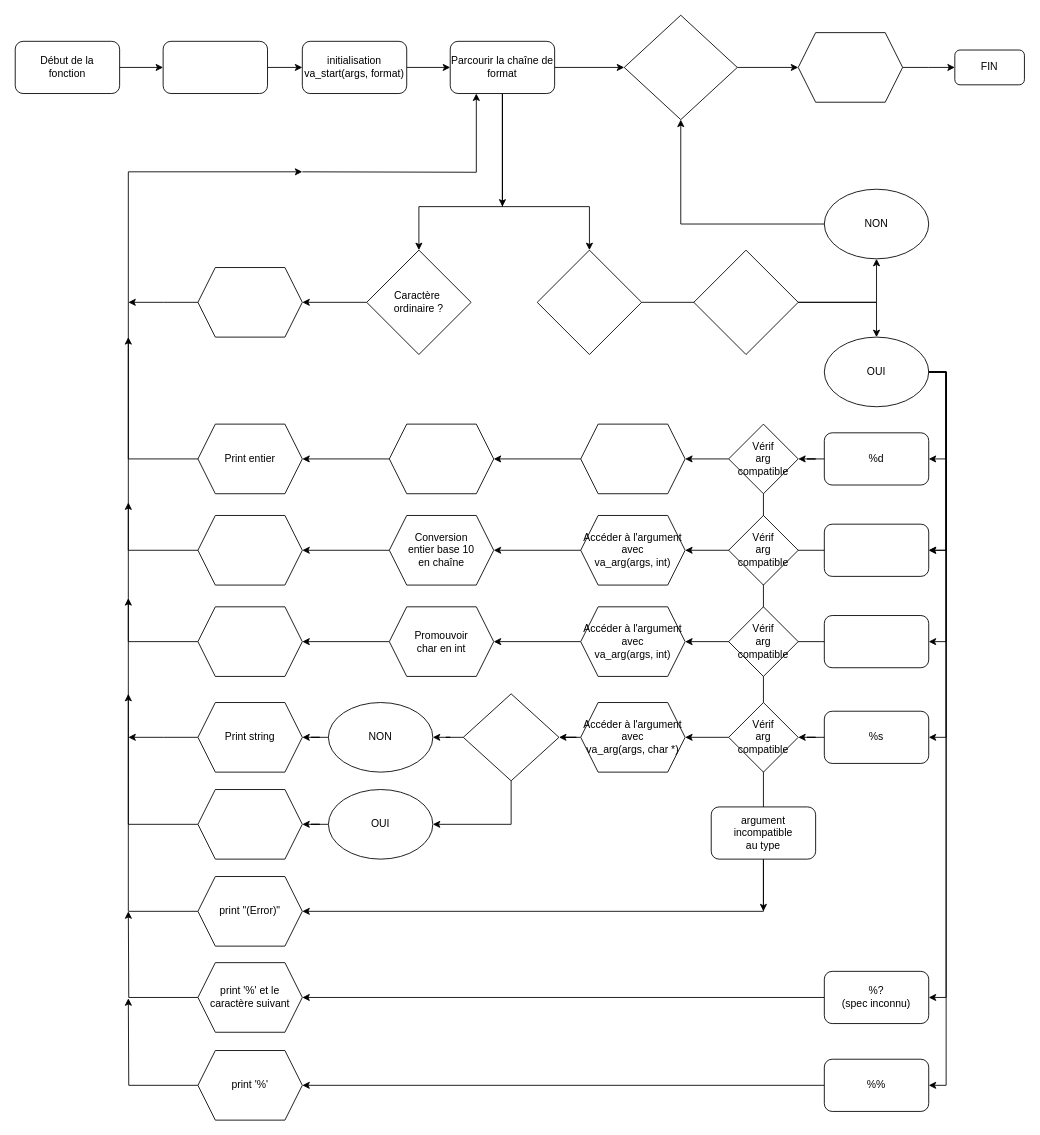
The diagram is 1040 pixels wide and 1135 high, and some of its shapes have lost their labels. The centre of each missing label's shape, as x and y in pixels:
%c: (876,641)
%i: (876,549)
Accéder à l'argument avec va_arg(arg, int): (632,458)
Appeler va_end(args) pour nettoyer: (850,67)
Caractère '%' ?: (589,302)
Caractère suivant existe ?: (745,302)
Chaîne NULL ?: (510,737)
Conversion entier en chaîne: (441,458)
Déclarer va_list args: (215,67)
Fin de la chaîne ? '\0': (680,67)
Print "(NULL)": (249,824)
Print caractère: (249,302)
Print char: (249,641)
Print entier base 10: (249,550)
